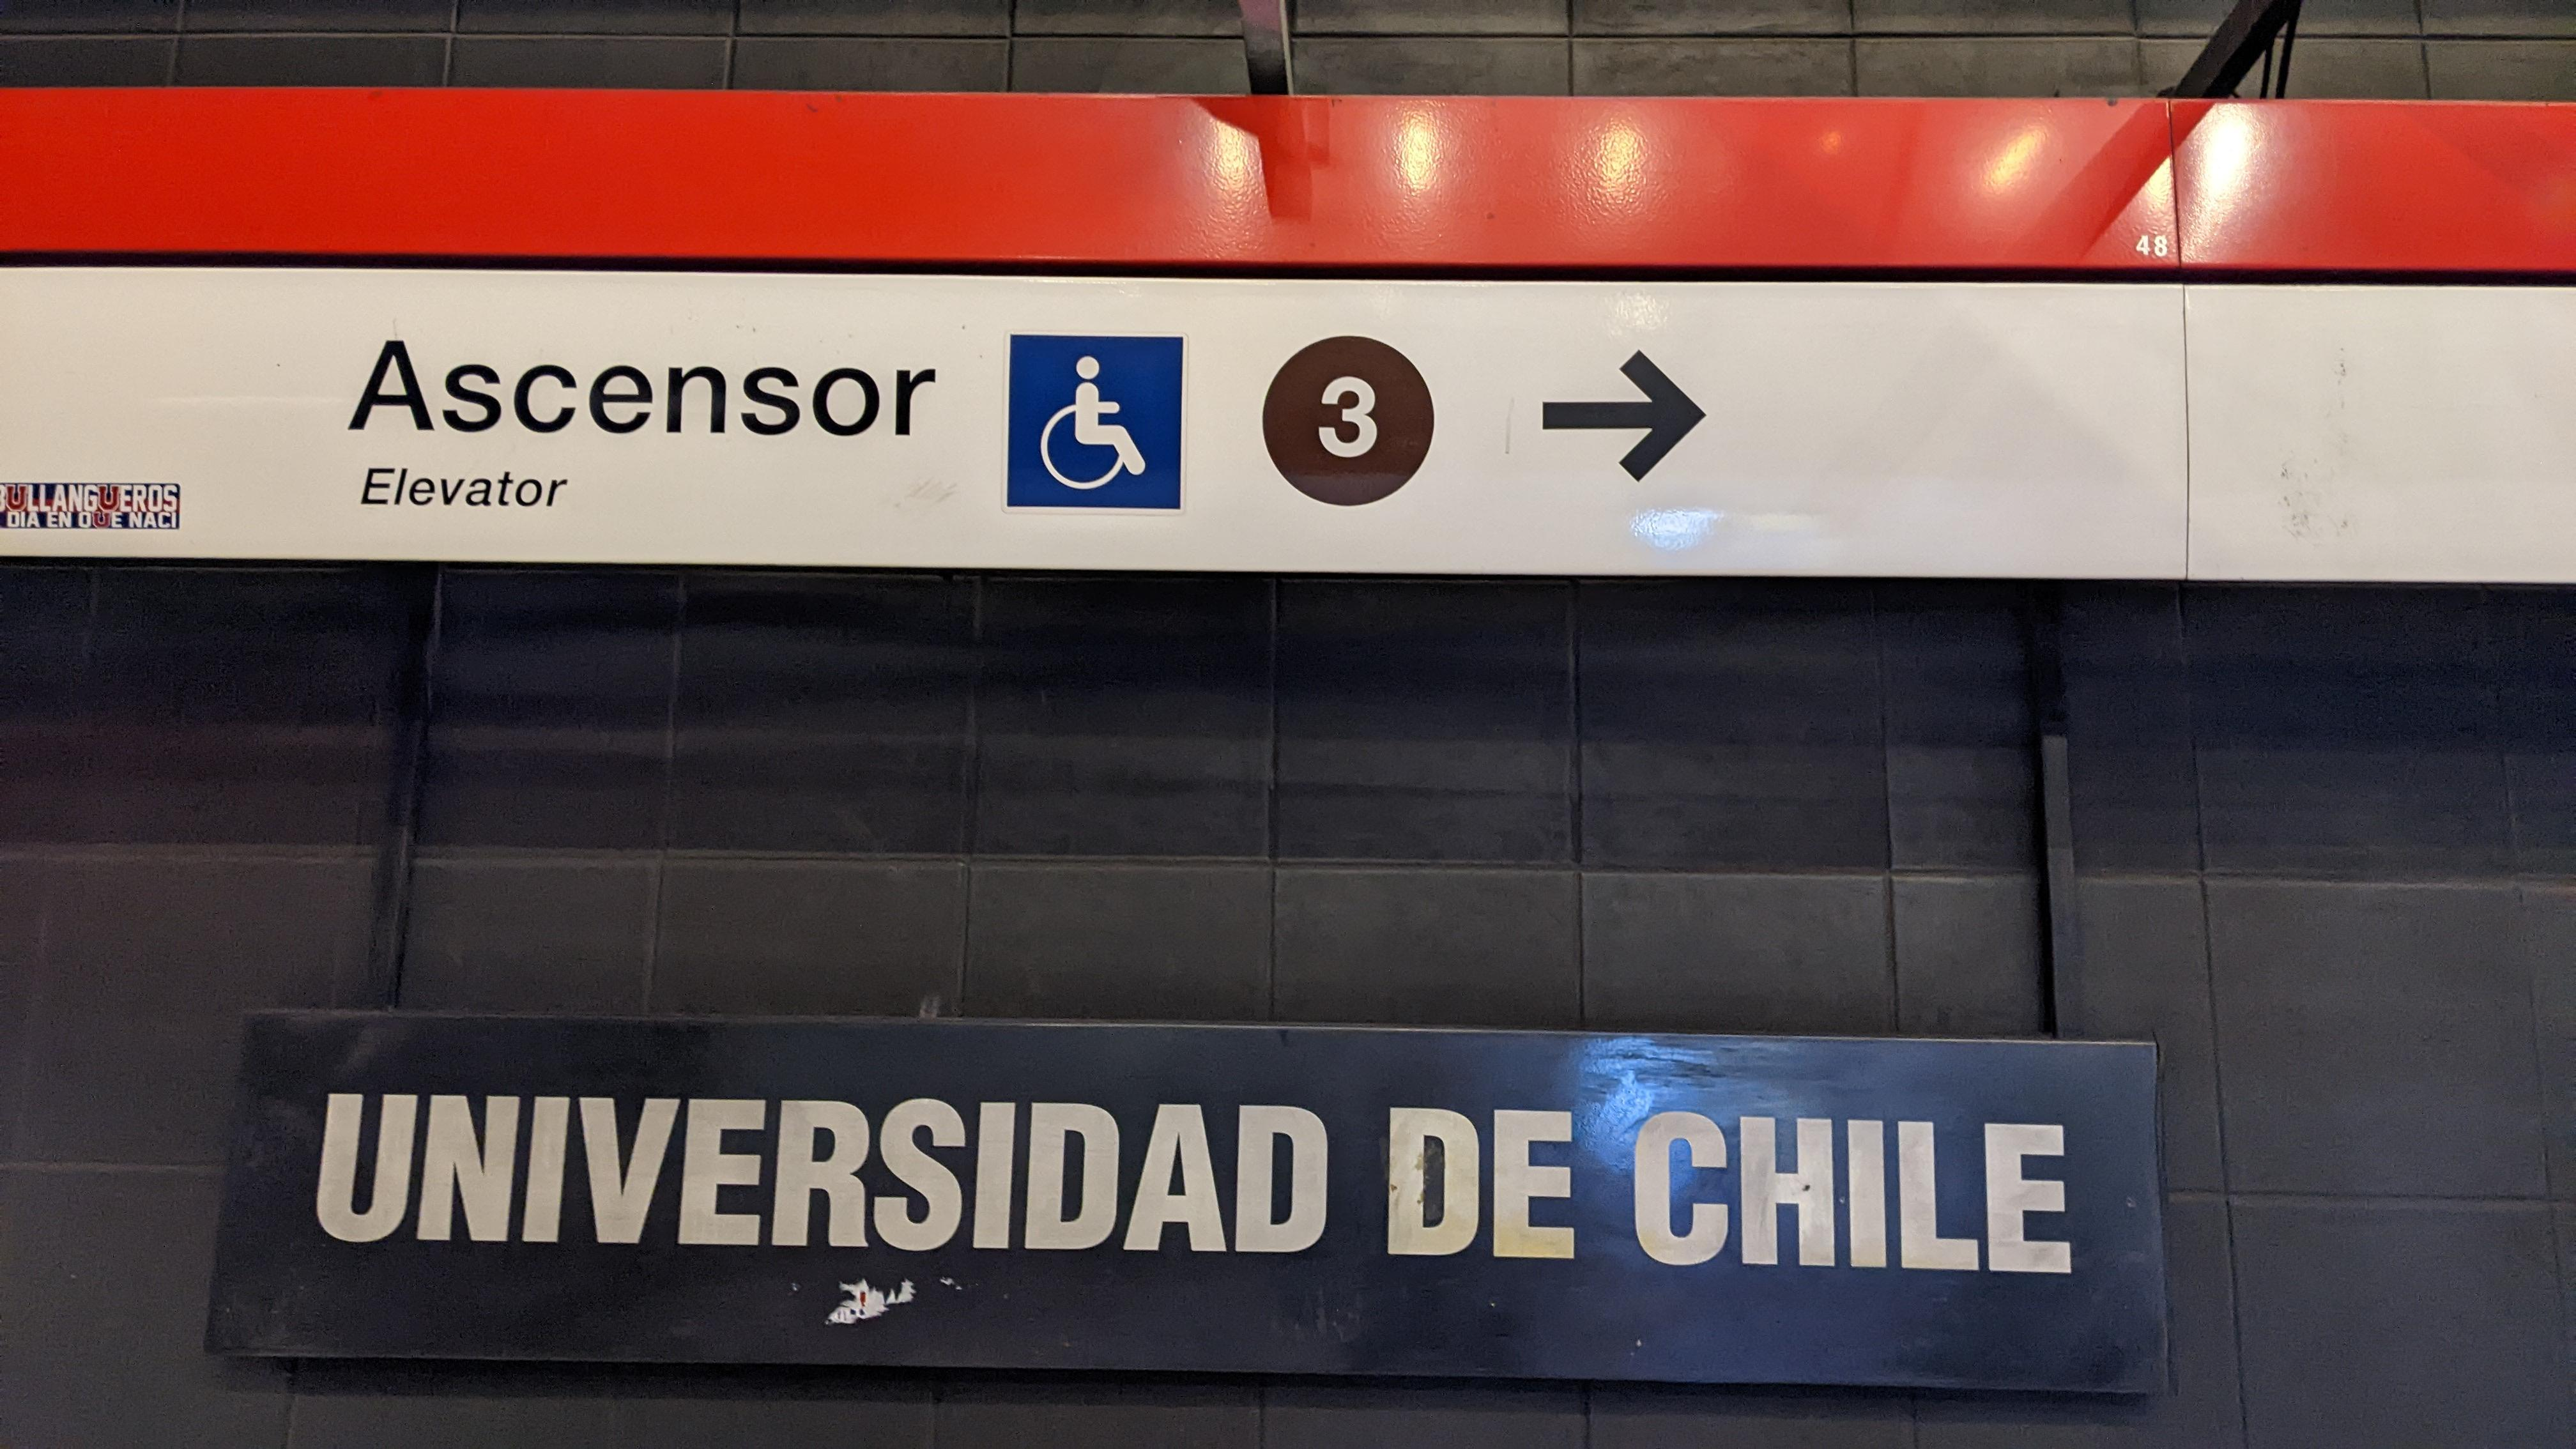handicapped symbol: (1035, 352, 1148, 492)
right arrow: (1532, 345, 1711, 488)
